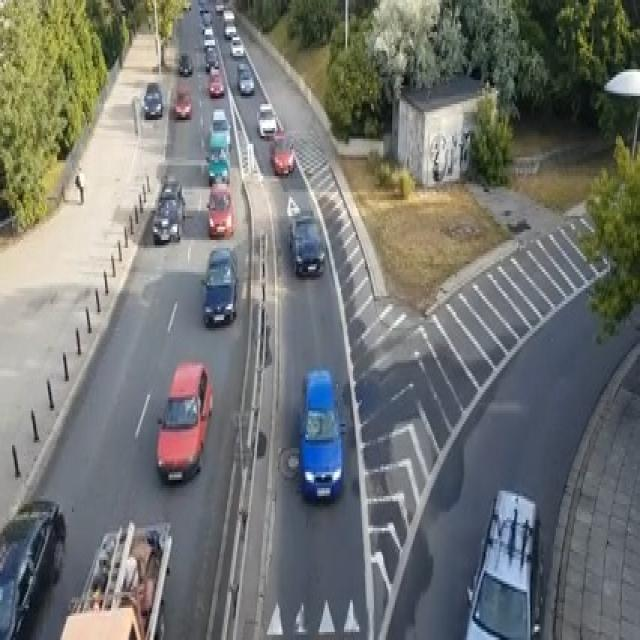car: (463, 488, 544, 637), (0, 499, 65, 637), (155, 360, 213, 483), (298, 368, 346, 501), (200, 246, 237, 326), (288, 211, 324, 277), (206, 182, 233, 238), (152, 197, 180, 243), (158, 176, 185, 219), (269, 133, 294, 176), (206, 149, 230, 184), (204, 128, 228, 163), (210, 106, 230, 146), (141, 80, 162, 117), (256, 101, 276, 139), (236, 62, 254, 94), (173, 91, 191, 117), (207, 69, 224, 96), (204, 45, 218, 72), (228, 35, 244, 56), (179, 50, 192, 74), (224, 22, 236, 38), (222, 8, 235, 21), (215, 0, 224, 13)
truck: (57, 520, 173, 637)
